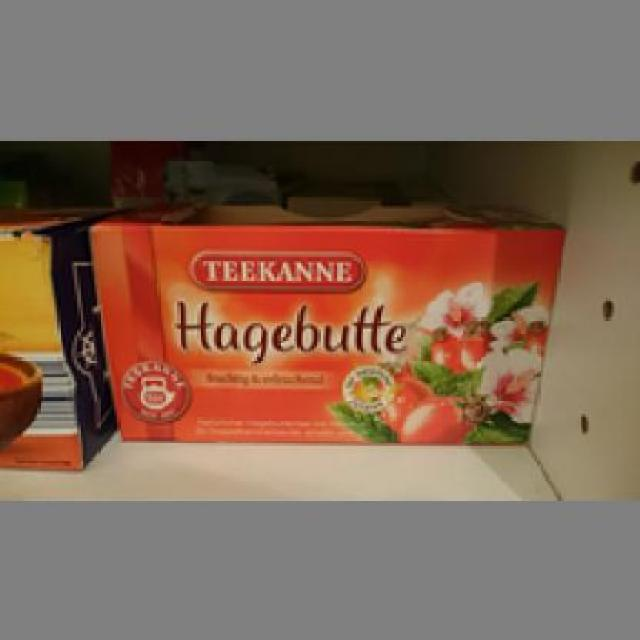Tea: (80, 197, 563, 446)
